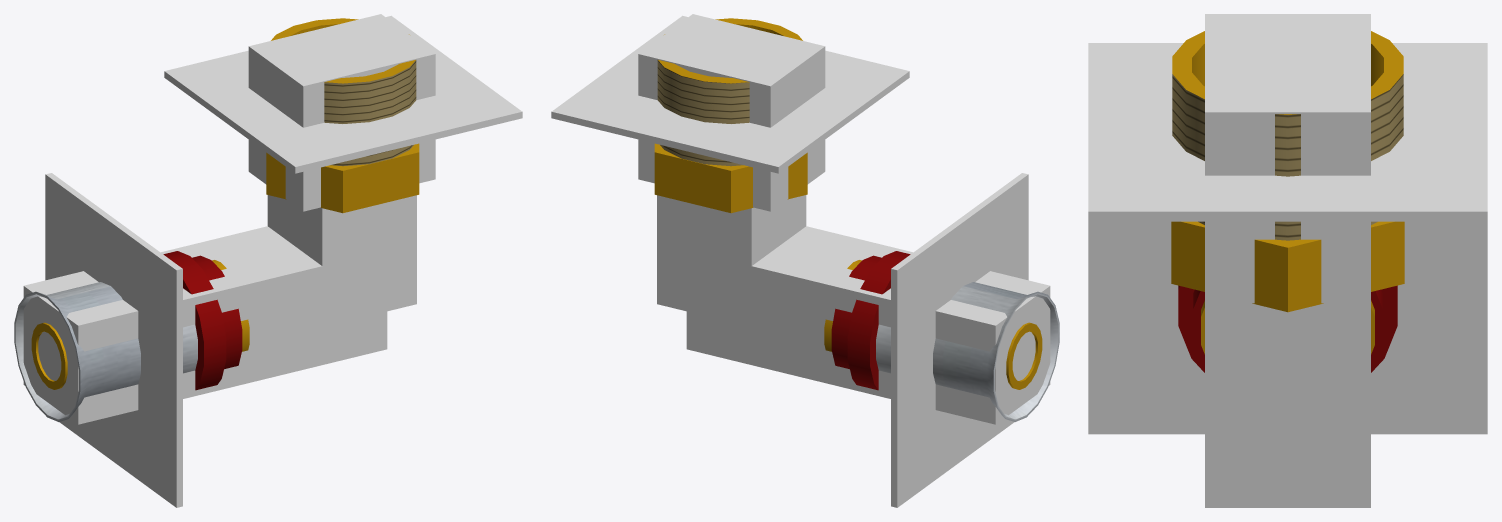
Rendered from mp_ugol_nar_16x1s2.FBX.
3 renders of one model, left to right at view 1: azimuth 30°, elevation 25°; view 2: azimuth 150°, elevation 25°; view 3: azimuth 270°, elevation 25°, orthographic. The views are drawn at different scales.
Visible parts, largest first — view 1: ugol_nar_16*1/2_COL_, ugol_nar_16*1/2, Box002_est_004, Box002_est_005; view 2: ugol_nar_16*1/2_COL_, ugol_nar_16*1/2, Box002_est_004, Box002_est_005; view 3: ugol_nar_16*1/2_COL_, Box002_est_005, Box002_est_004, ugol_nar_16*1/2.
Boxes of the visible parts, left/top/right/bottom form: ugol_nar_16*1/2_COL_: left=23, top=14, right=435, bottom=424; ugol_nar_16*1/2: left=14, top=18, right=419, bottom=421; Box002_est_004: left=45, top=173, right=182, bottom=507; Box002_est_005: left=164, top=15, right=522, bottom=173; ugol_nar_16*1/2_COL_: left=638, top=14, right=1050, bottom=424; ugol_nar_16*1/2: left=654, top=18, right=1059, bottom=421; Box002_est_004: left=891, top=173, right=1028, bottom=507; Box002_est_005: left=551, top=15, right=909, bottom=173; ugol_nar_16*1/2_COL_: left=1205, top=14, right=1370, bottom=507; Box002_est_005: left=1088, top=43, right=1487, bottom=221; Box002_est_004: left=1088, top=221, right=1487, bottom=434; ugol_nar_16*1/2: left=1171, top=31, right=1404, bottom=372.
Size of the model in its own units: 0.0649 by 0.0535 by 0.036.
4 materials, 2 textured.
